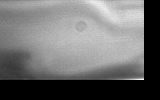cell: (58, 12, 102, 39), (67, 4, 97, 25), (69, 18, 90, 38), (74, 22, 89, 38), (72, 20, 87, 35)
